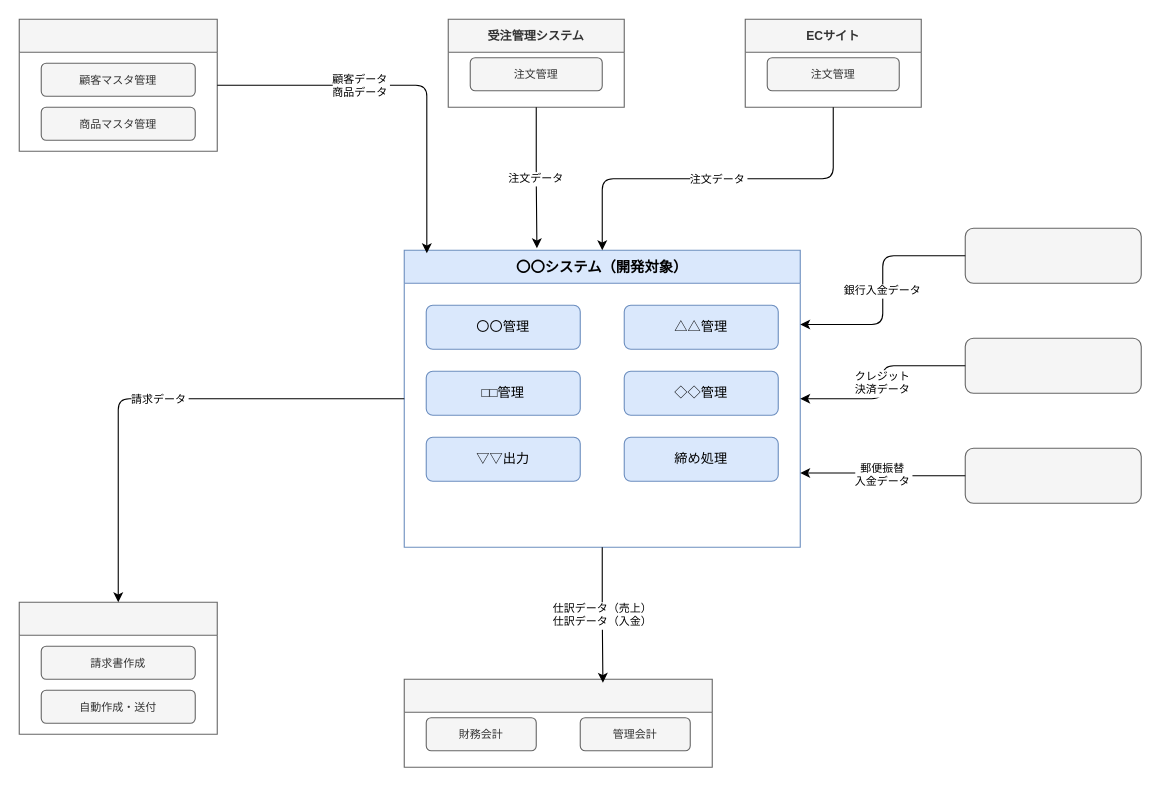
The diagram is 1161 pixels wide and 787 high, and some of its shapes have lost their labels. The shapes that lost their labels are listed below. From the top down, each one's box as (x1, y1, x2, y2) in pixels, then its label:
(18, 18, 217, 151): マスタ管理システム
(964, 227, 1141, 283): ○○銀行
(964, 337, 1141, 393): ○○決済代行会社
(964, 447, 1141, 503): ゆうちょ銀行
(18, 601, 217, 734): 請求書作成システム
(403, 678, 712, 767): 会計システム
